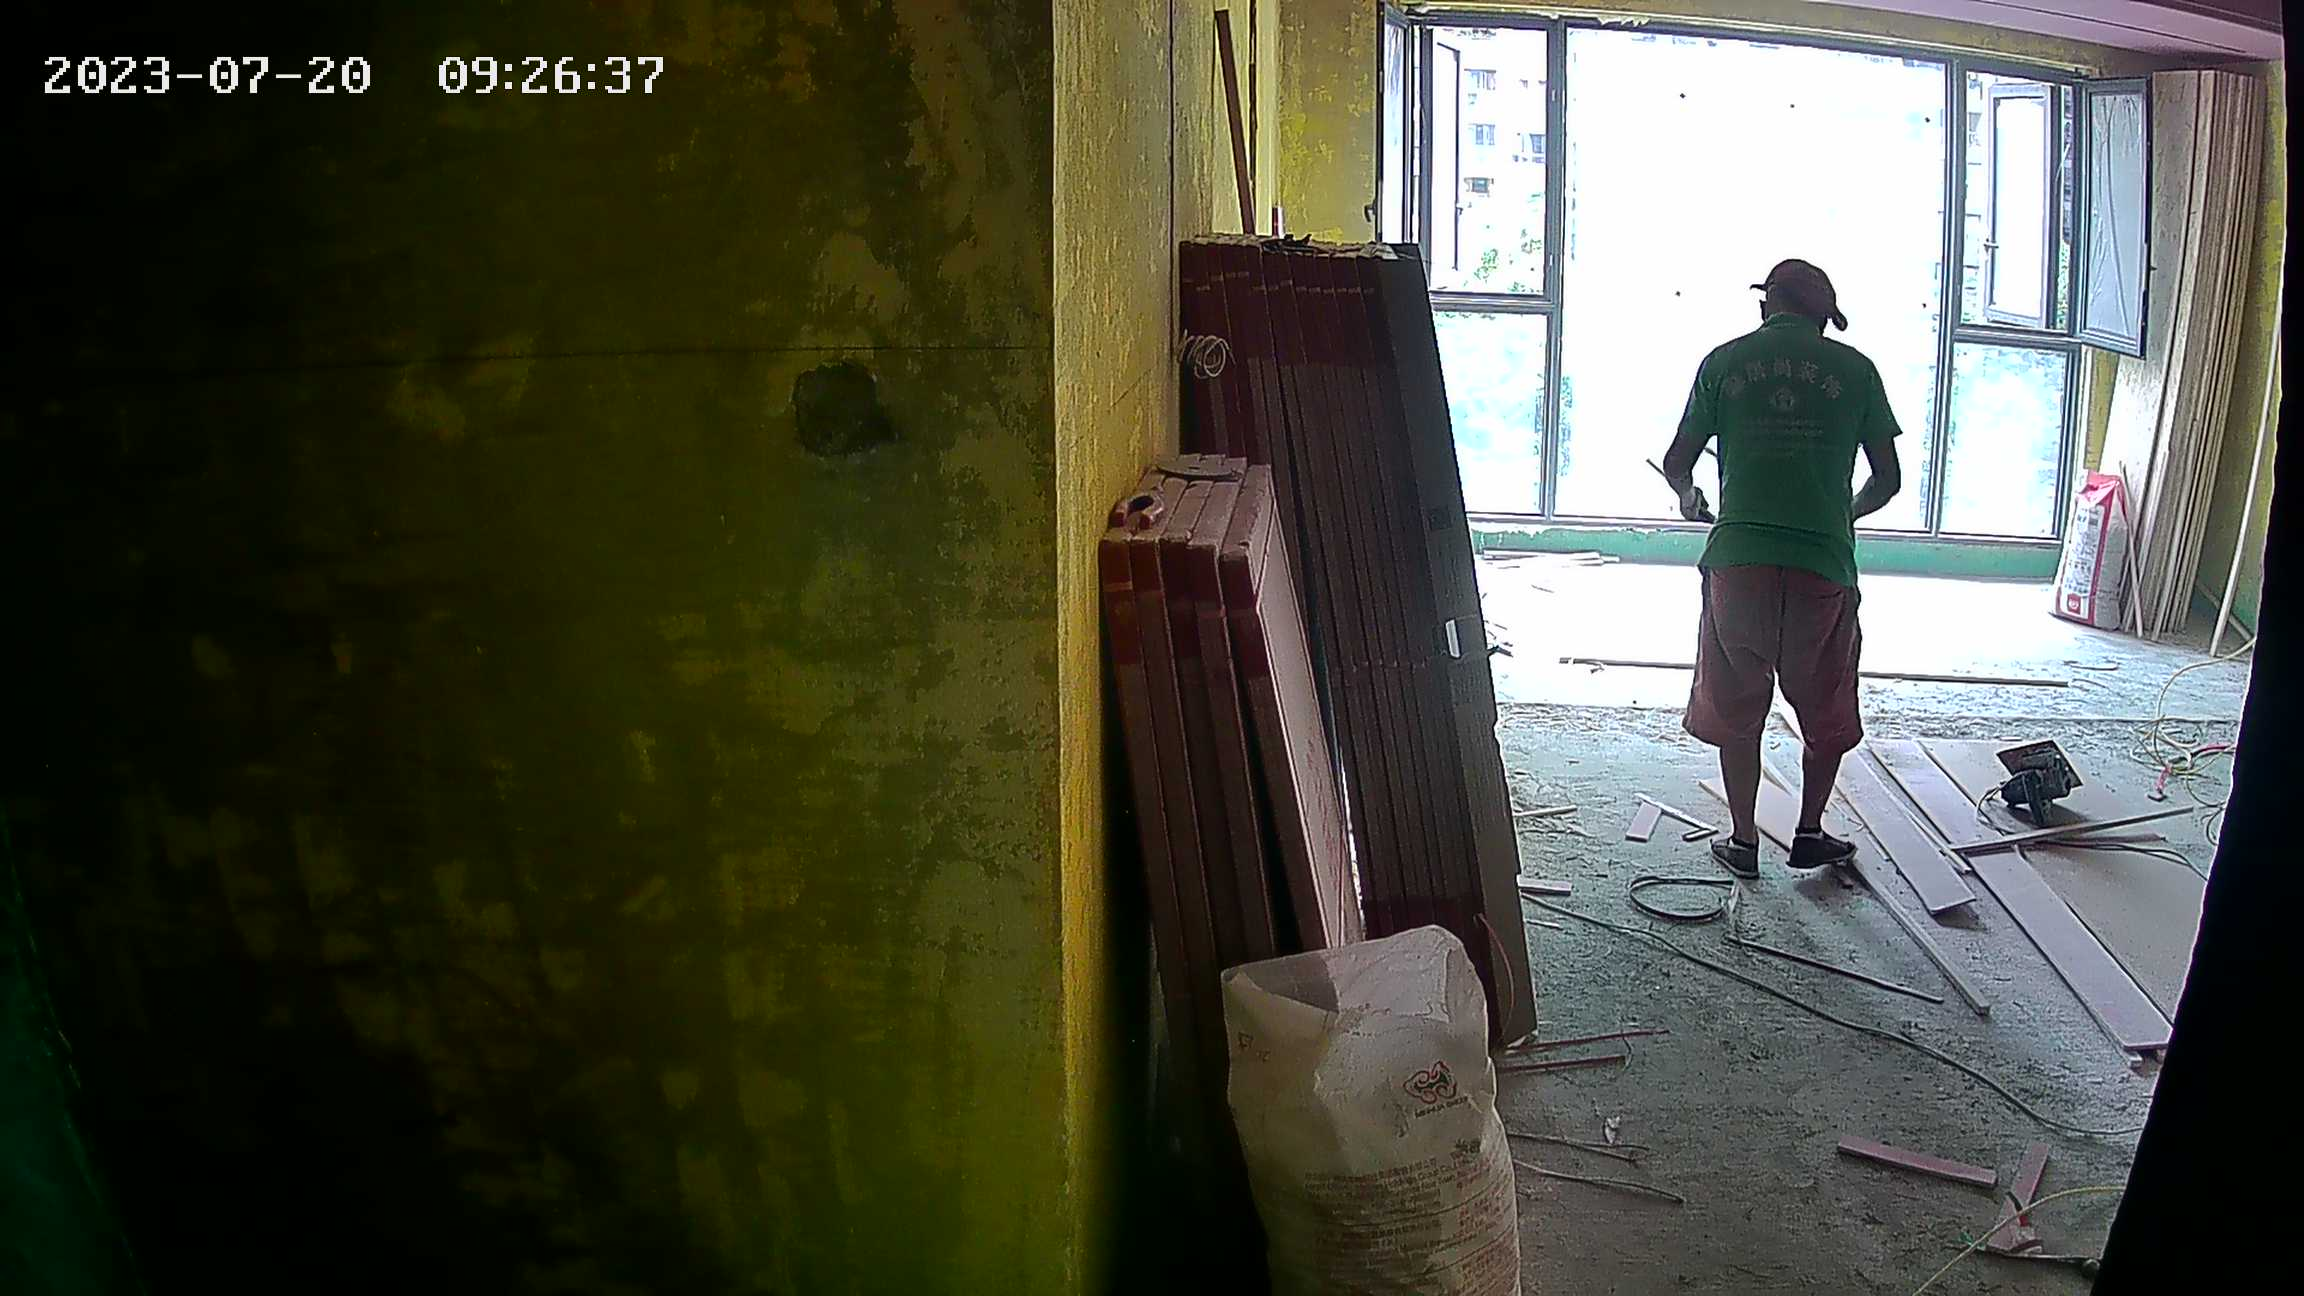people: (1663, 259, 1908, 885)
window: (1411, 22, 2067, 559)
